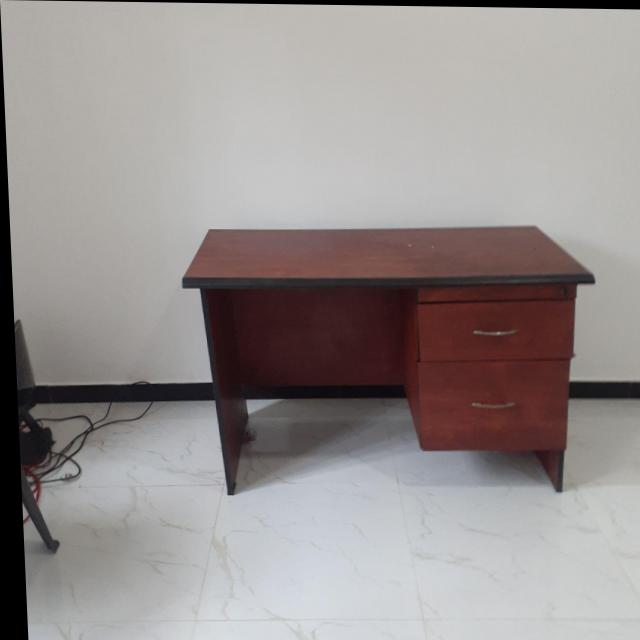Table: (163, 214, 629, 533)
